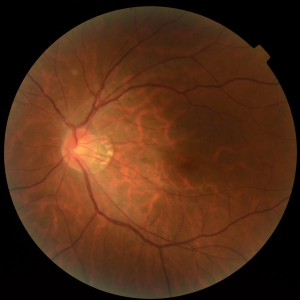healthy_eye: (38, 84, 245, 205)
